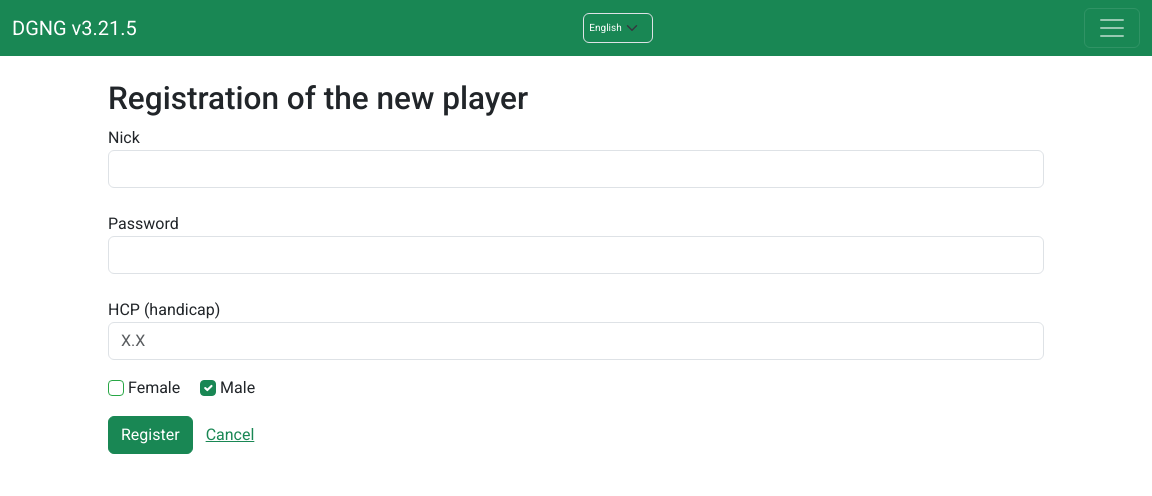
Test case: Register Test › Form submission › tries to register with incorrect captcha
Type "golfer" into the field named "nick" at (576, 169), box [108,150,1044,188]
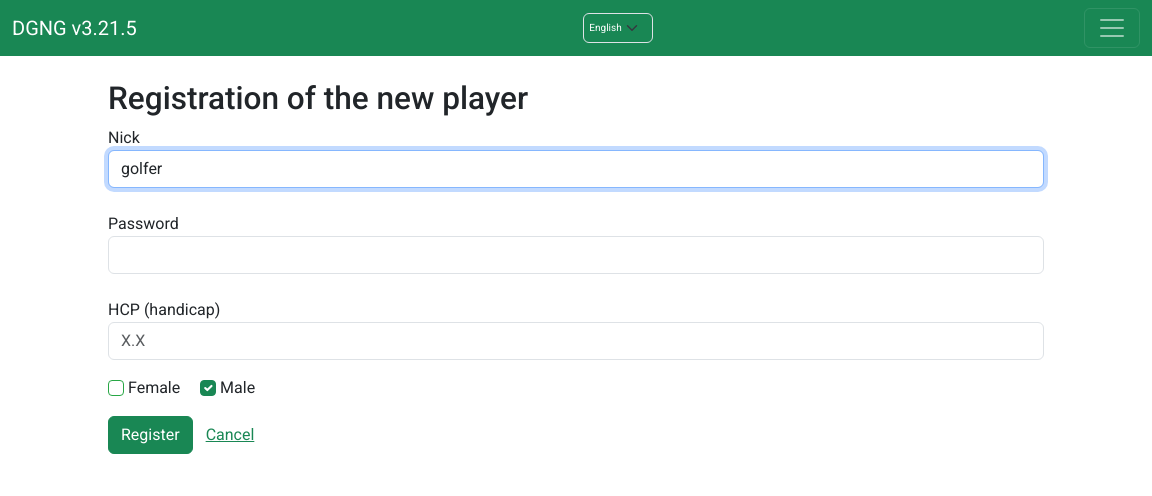
Type "welcome" into the password field named "password" at (576, 255), box [108,236,1044,274]
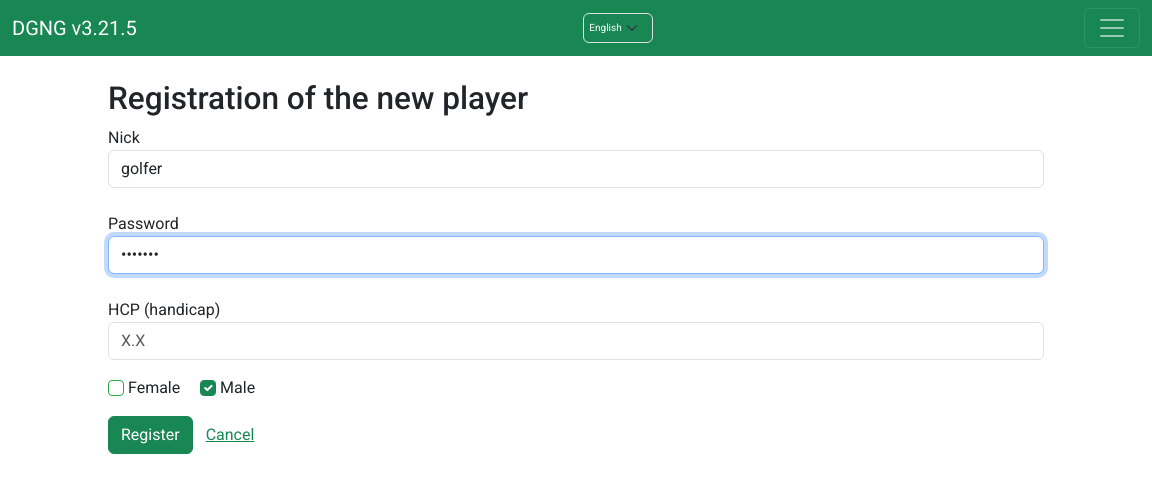
Type "22" into the field named "whs" at (576, 341), box [108,322,1044,360]
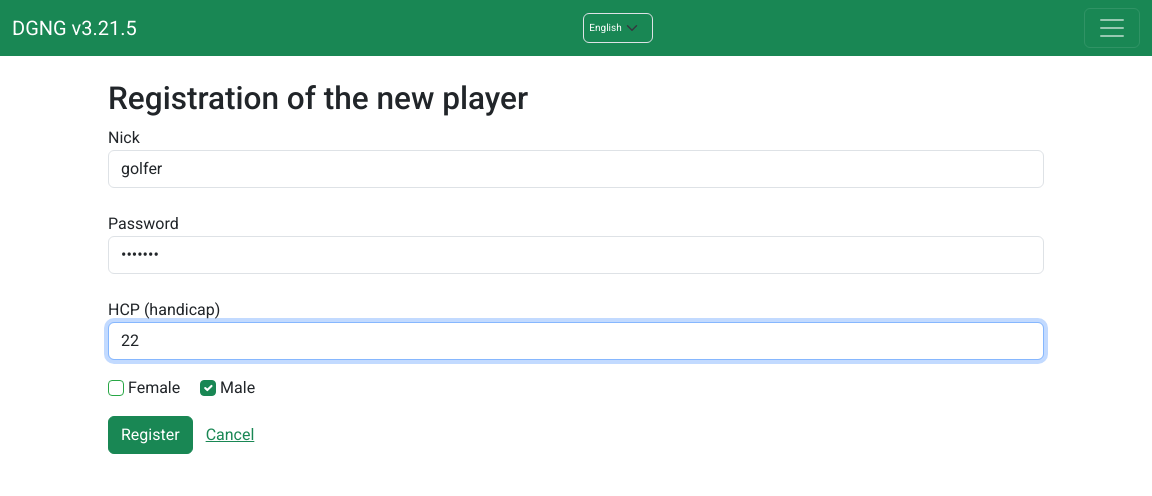
Submit the form, box [108,126,1044,454]
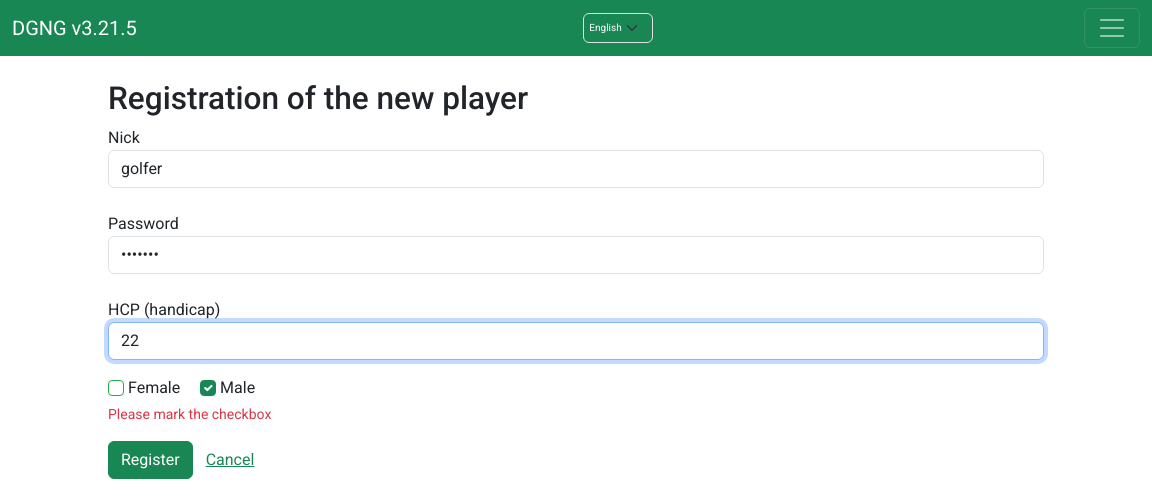
Result: the text "Please mark the checkbox" is shown at [108,406,271,422]
